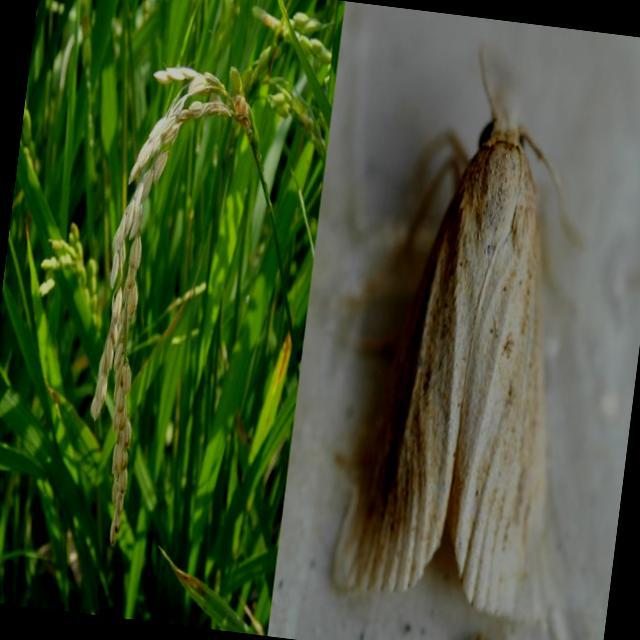stem borer: (336, 55, 549, 619)
